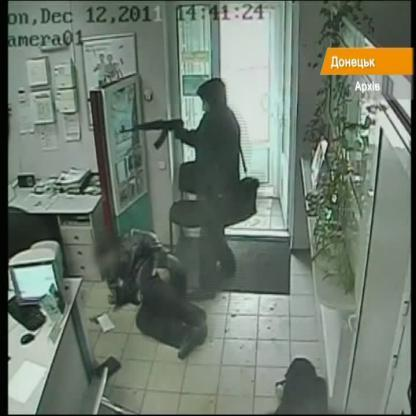al: (118, 116, 189, 150)
